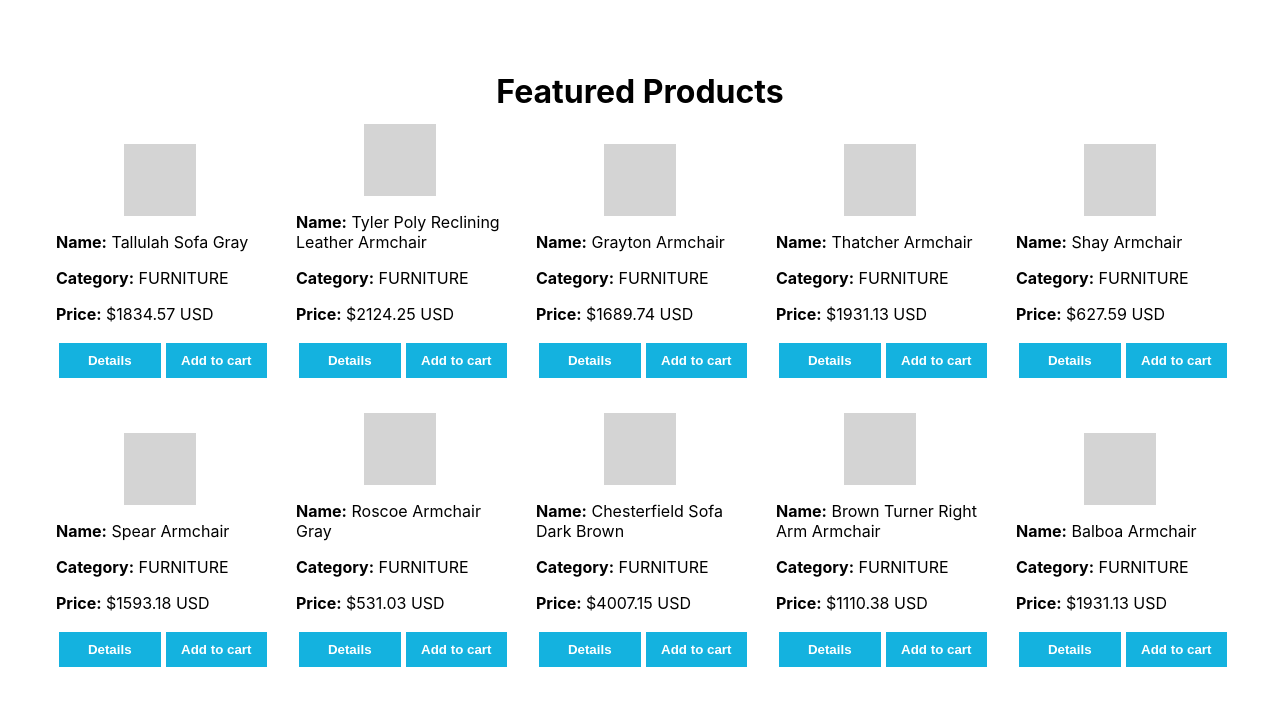
Scenario: Should show cart with items
(page scrolled)
Click the button with test id "^product-item-*". click: click(216, 360)
box: [166,342,267,378]
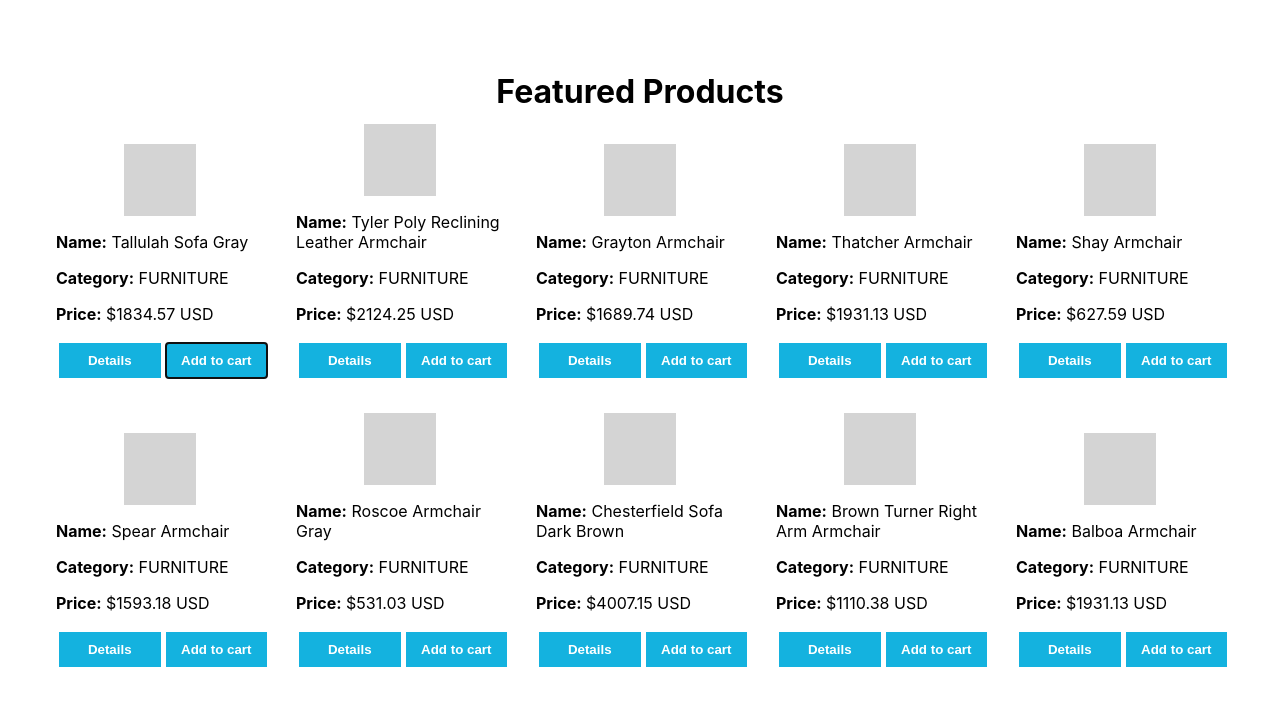
Click the button with test id "^product-item-*". click: click(456, 360)
box: [406,342,507,378]
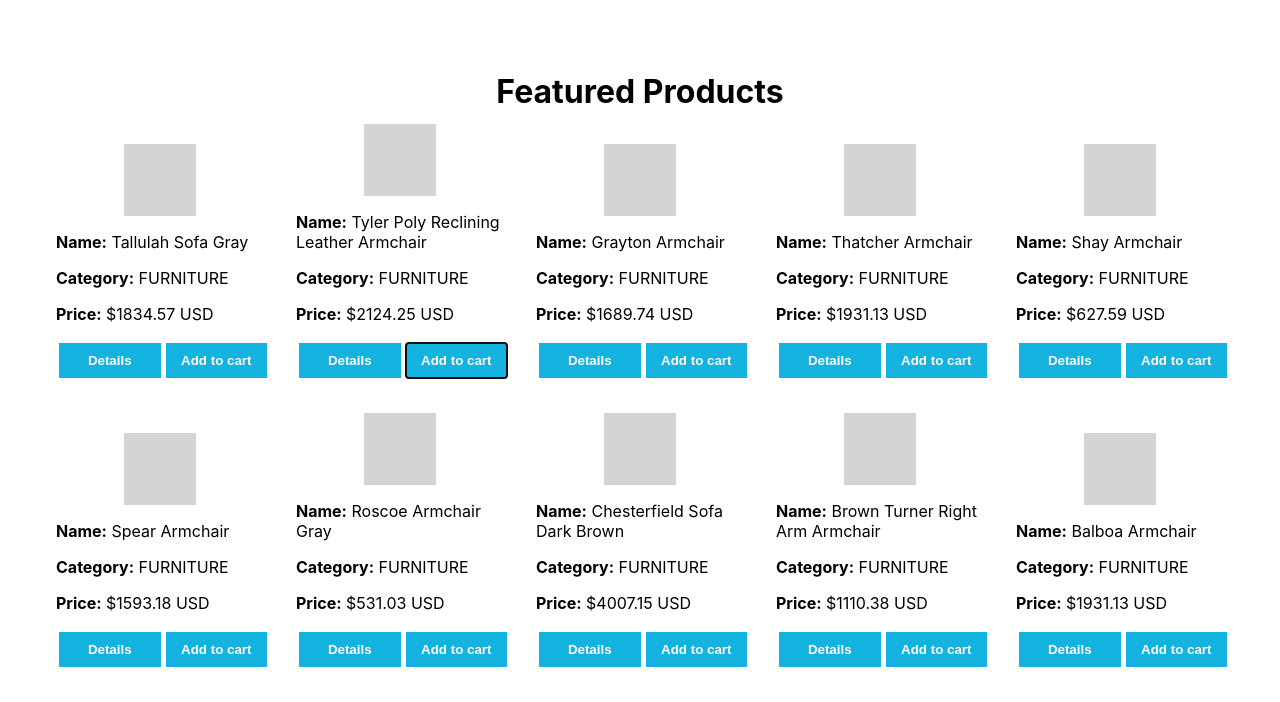
Click the button with test id "^product-item-*". click: click(696, 360)
box: [646,342,747,378]
(page scrolled)
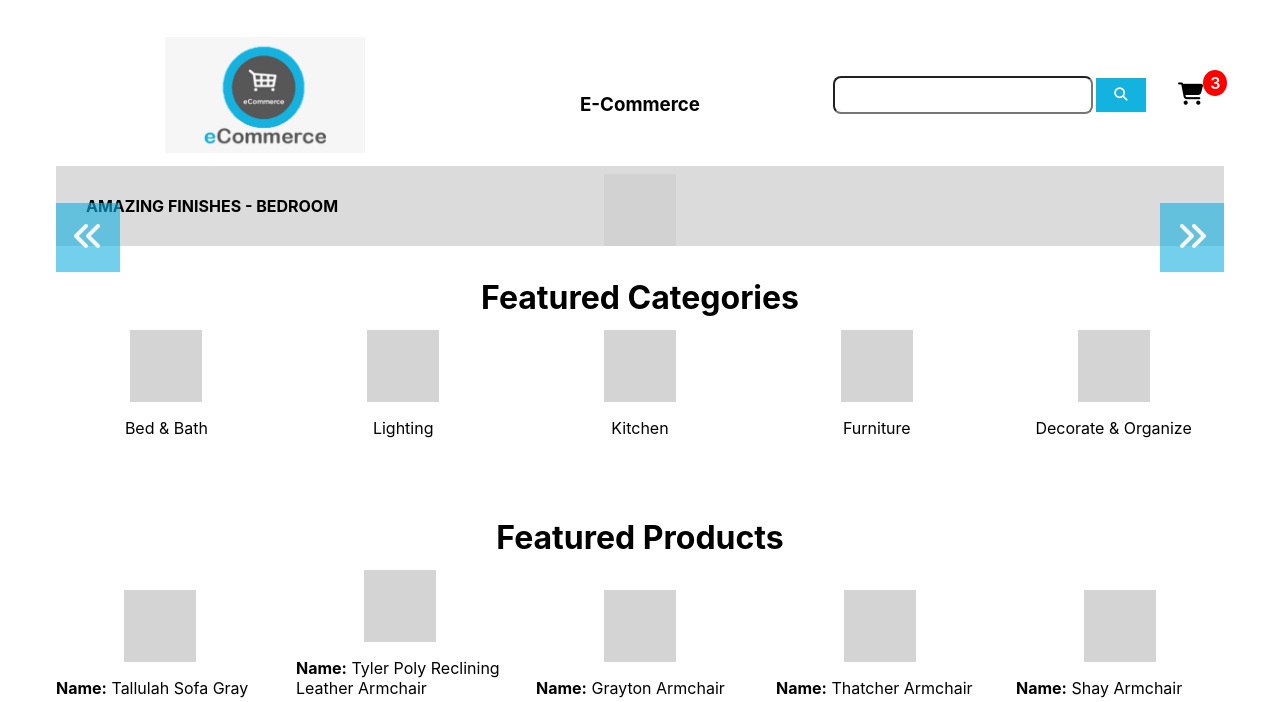
Click the link with test id "cart-icon-button". click: click(1191, 96)
box: [1178,86,1203,106]
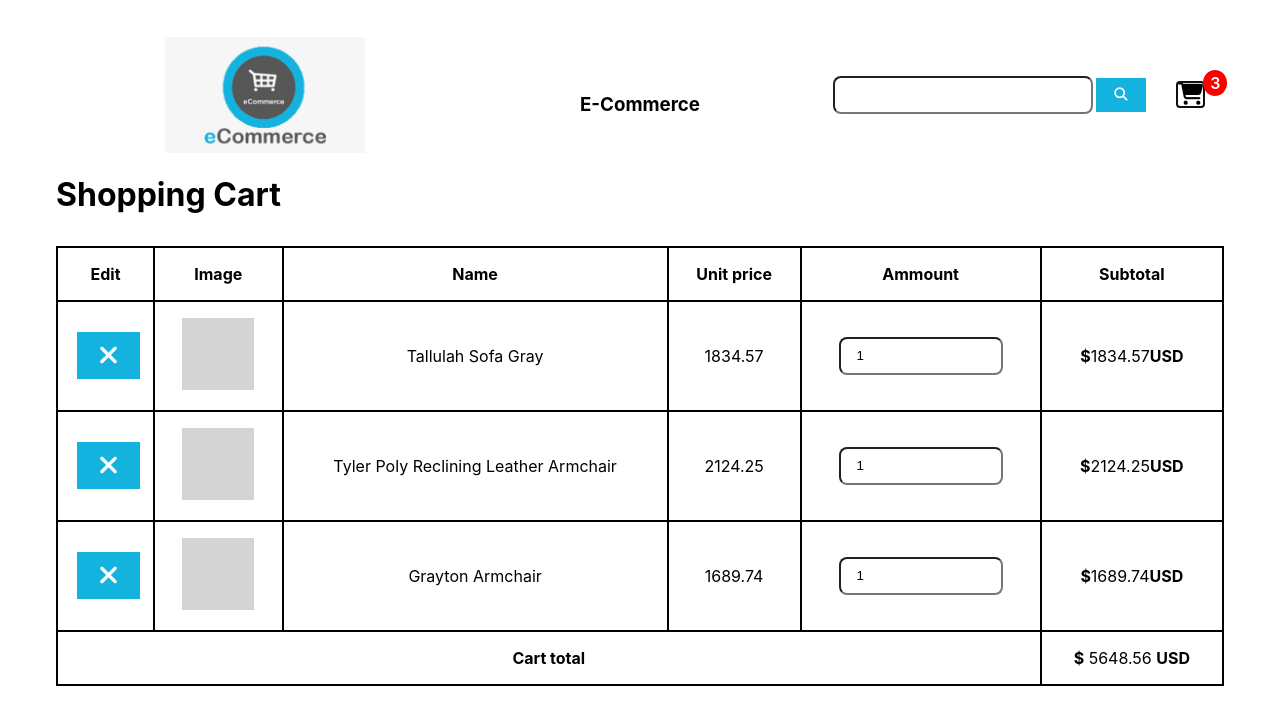
Expected: the table with test id "cart-table" is shown, [56,246,1224,686]
Expected: the button with class "cart-remove-button" in the row of "Tallulah Sofa Gray" is shown, [77,332,140,379]
Expected: the cell with class "cart-table-body--product-price" showing "1834.57" is shown, [668,301,800,411]
